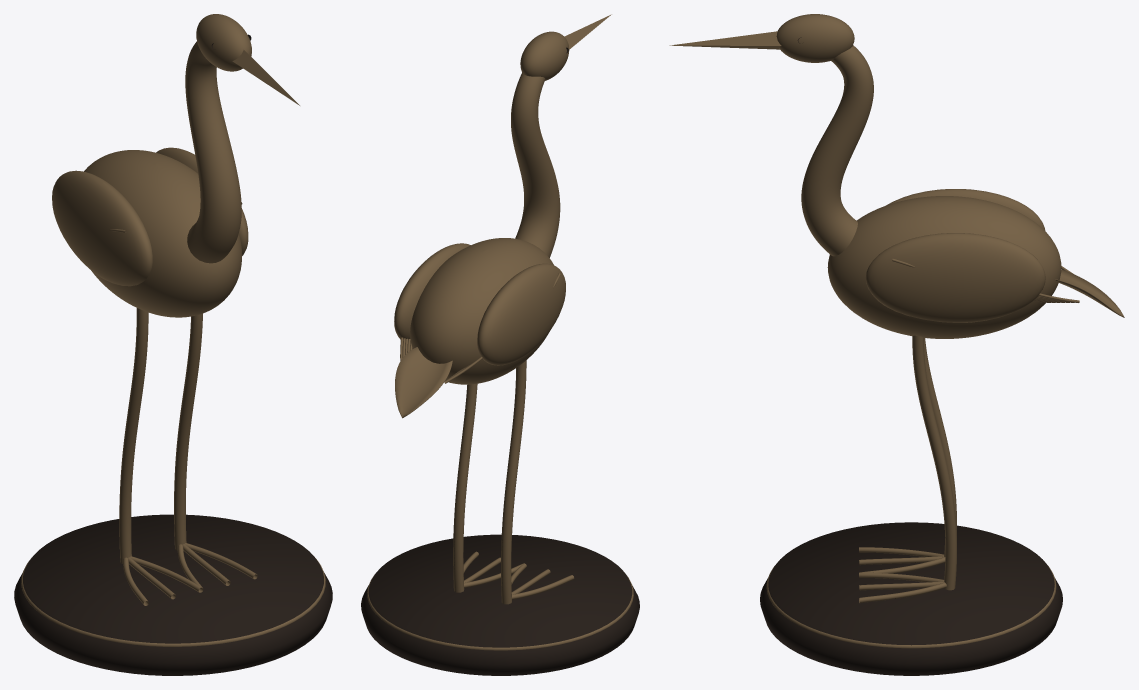
File: Bird_Sculpture.fbx
3 renders of one model, left to right at view 1: azimuth 30°, elevation 25°; view 2: azimuth 150°, elevation 25°; view 3: azimuth 270°, elevation 25°, orthographic. The views are drawn at different scales.
Visible parts, largest first — view 1: Oval bird sculpture base.001, Heron torso.001, Continuous S shaped heron neck.001, Folded bronze wing.002, Heron long leg.002, Heron long leg.003, Heron head.001, Bird base bronze rim.001, Folded bronze wing.003, Tapered heron beak.001, Heron toe.011, Heron toe.008; view 2: Oval bird sculpture base.001, Heron torso.001, Folded bronze wing.002, Continuous S shaped heron neck.001, Heron long leg.002, Heron tapered tail.001, Heron long leg.003, Folded bronze wing.003, Heron head.001, Bird base bronze rim.001; view 3: Oval bird sculpture base.001, Heron torso.001, Folded bronze wing.003, Continuous S shaped heron neck.001, Heron long leg.003, Heron head.001, Bird base bronze rim.001, Folded bronze wing.002, Tapered heron beak.001, Heron long leg.002, Heron tapered tail.001.
Boxes of the visible parts, x1,y1,x2,y2 form: Oval bird sculpture base.001: [14, 514, 332, 675]; Heron torso.001: [84, 150, 242, 317]; Continuous S shaped heron neck.001: [185, 41, 241, 263]; Folded bronze wing.002: [52, 170, 152, 286]; Heron long leg.002: [119, 308, 148, 563]; Heron long leg.003: [174, 313, 202, 550]; Heron head.001: [196, 14, 251, 71]; Bird base bronze rim.001: [21, 558, 325, 646]; Folded bronze wing.003: [156, 147, 248, 255]; Tapered heron beak.001: [232, 50, 299, 105]; Heron toe.011: [185, 543, 257, 579]; Heron toe.008: [130, 556, 202, 592]; Oval bird sculpture base.001: [361, 534, 639, 675]; Heron torso.001: [410, 238, 553, 384]; Folded bronze wing.002: [477, 263, 565, 365]; Continuous S shaped heron neck.001: [511, 72, 560, 257]; Heron long leg.002: [501, 360, 526, 604]; Heron tapered tail.001: [395, 347, 452, 418]; Heron long leg.003: [453, 383, 477, 592]; Folded bronze wing.003: [394, 243, 470, 339]; Heron head.001: [520, 31, 569, 80]; Bird base bronze rim.001: [367, 572, 633, 650]; Oval bird sculpture base.001: [760, 522, 1062, 675]; Heron torso.001: [827, 196, 1061, 338]; Folded bronze wing.003: [865, 233, 1045, 322]; Continuous S shaped heron neck.001: [801, 45, 873, 256]; Heron long leg.003: [912, 335, 956, 590]; Heron head.001: [776, 14, 854, 62]; Bird base bronze rim.001: [766, 566, 1056, 648]; Folded bronze wing.002: [886, 189, 1045, 230]; Tapered heron beak.001: [669, 31, 781, 49]; Heron long leg.002: [924, 338, 956, 563]; Heron tapered tail.001: [1055, 269, 1124, 317].
Bounding box in the file's own units: 0.192 × 0.418 × 0.289.
